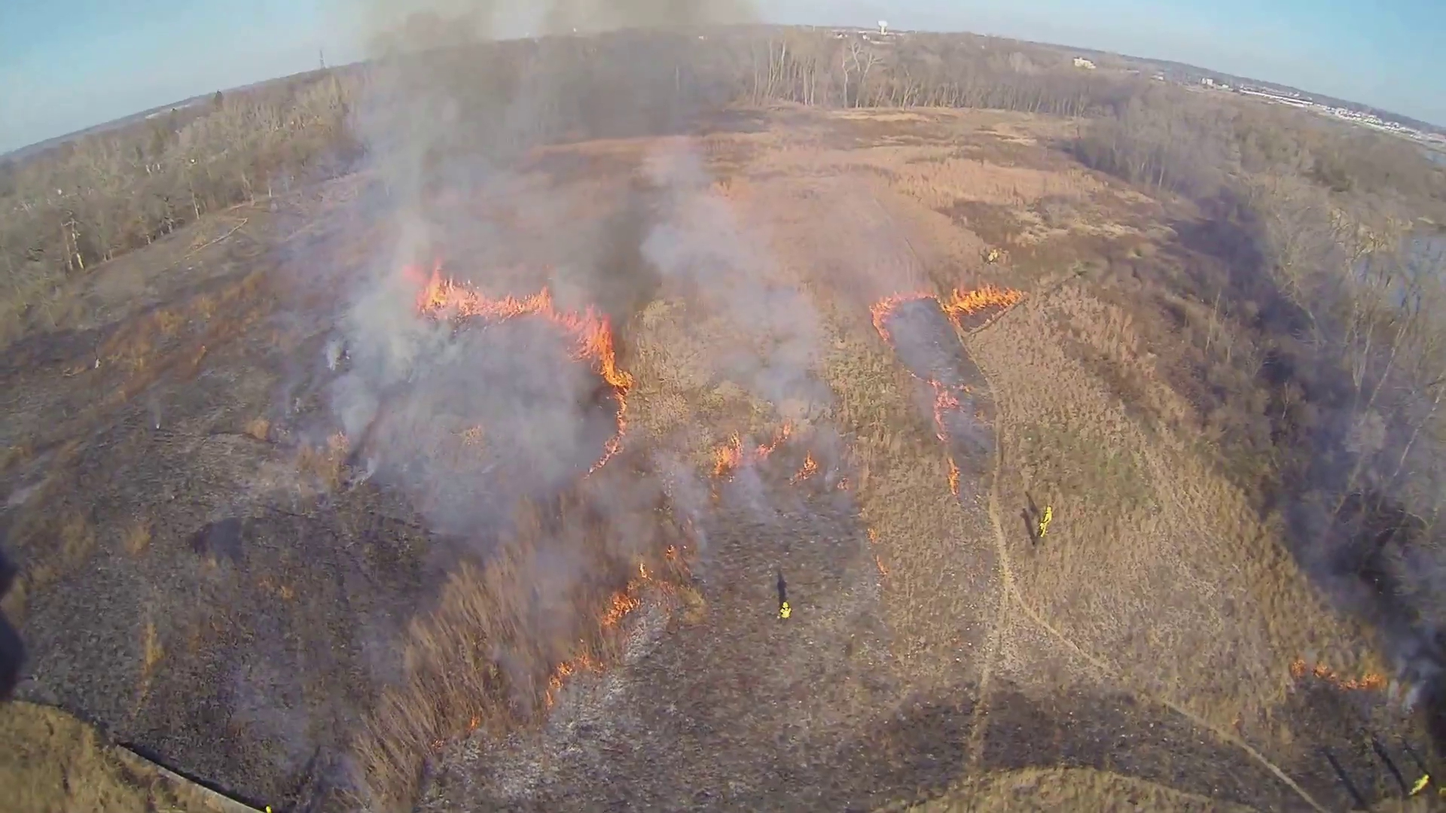forest_fire: (418, 266, 633, 472), (870, 284, 1024, 346), (712, 421, 793, 480), (911, 373, 972, 445), (1289, 658, 1399, 694), (599, 564, 653, 628), (545, 656, 595, 705), (790, 452, 820, 482), (947, 452, 961, 497)
